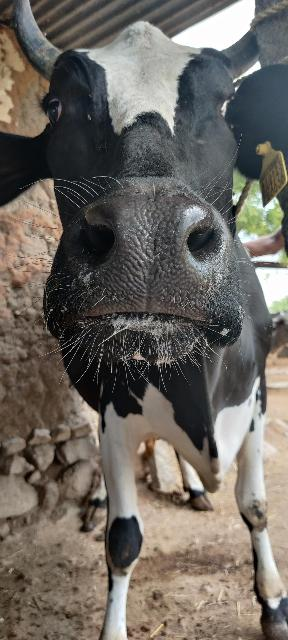Muzzle: (93, 206, 205, 316)
